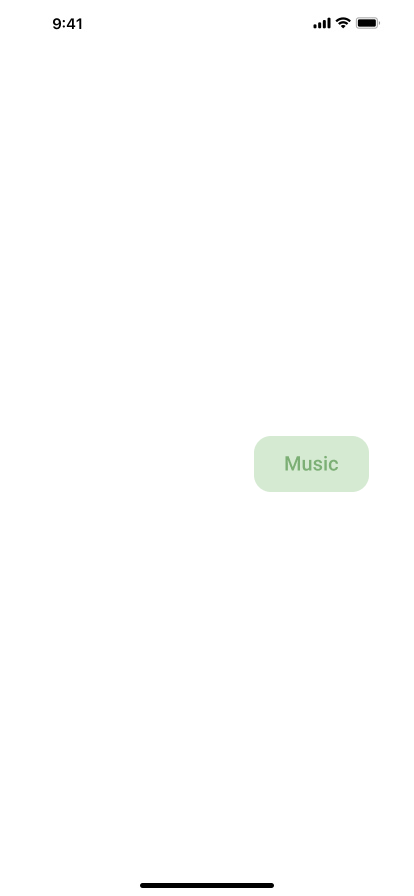Buttons: (254, 436, 377, 492)
Home Indicator: (0, 862, 414, 896)
Status Bar: (0, 0, 414, 44)
